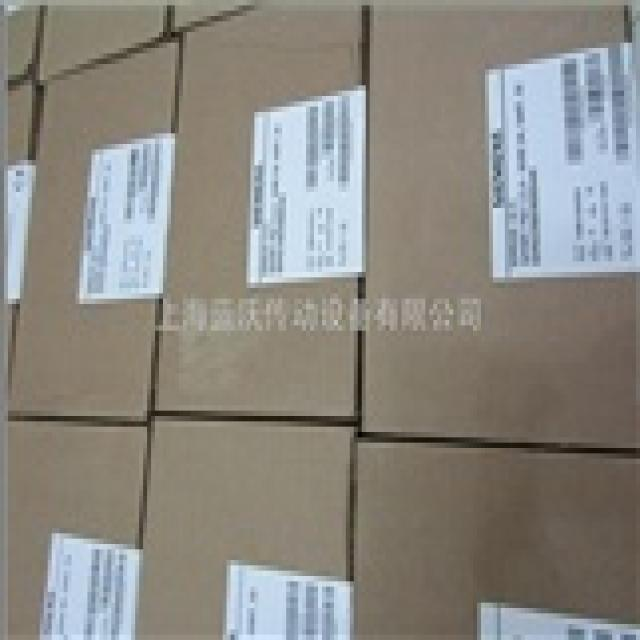box: (359, 1, 636, 450), (153, 3, 367, 417), (6, 39, 183, 422), (346, 440, 636, 635), (127, 418, 355, 635), (0, 418, 148, 635), (36, 1, 170, 85), (0, 167, 32, 417), (0, 0, 44, 91), (0, 77, 42, 167), (169, 1, 257, 32)
